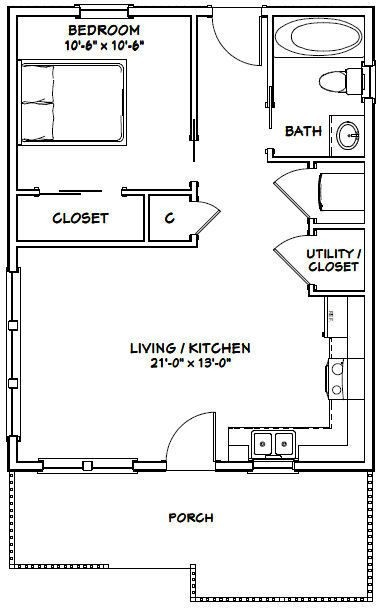door: (160, 408, 225, 478), (212, 5, 268, 73), (277, 170, 322, 228), (278, 239, 317, 301), (195, 203, 222, 237)
room: (1, 241, 373, 478), (7, 16, 374, 243)
wall: (359, 94, 378, 475), (6, 6, 21, 273), (15, 234, 199, 250), (260, 2, 374, 23), (184, 22, 200, 151), (126, 4, 213, 24), (265, 151, 364, 168), (6, 1, 79, 22), (115, 185, 196, 201), (307, 214, 367, 234), (360, 6, 378, 63), (309, 287, 367, 300), (213, 456, 251, 473), (140, 194, 151, 246), (19, 185, 48, 204), (268, 16, 274, 106), (4, 438, 19, 474), (131, 460, 168, 474), (13, 461, 41, 474)
window: (7, 267, 21, 442), (38, 457, 140, 476)
